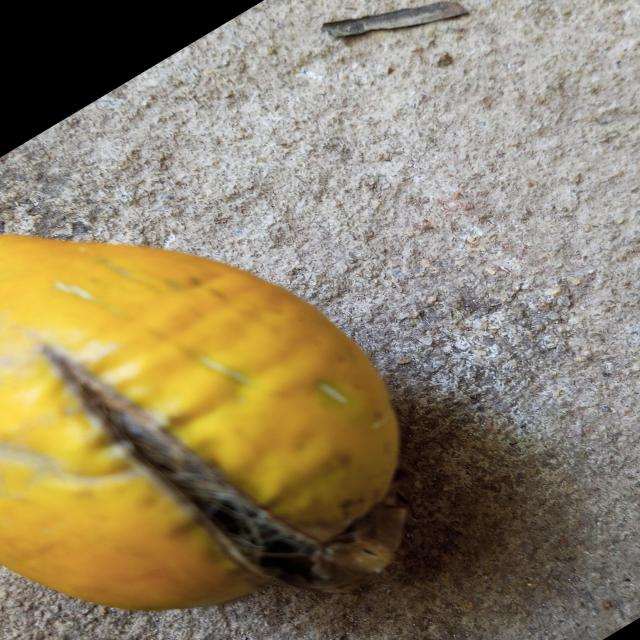damaged: (0, 235, 402, 614)
